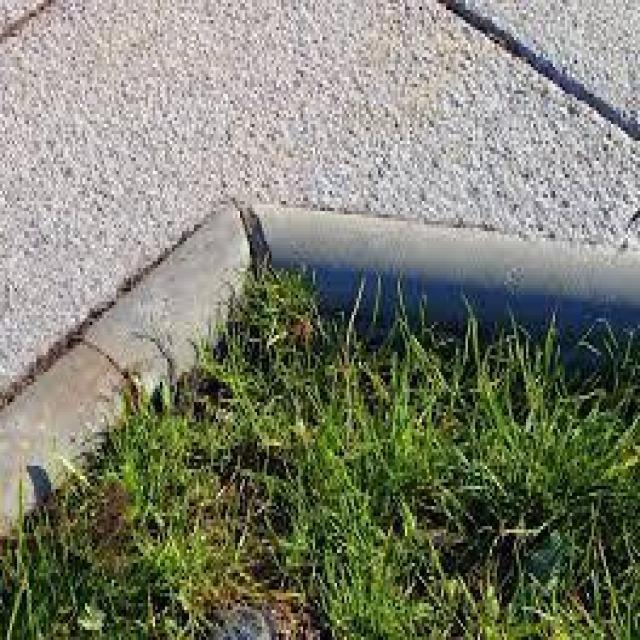curb: (1, 203, 640, 542)
